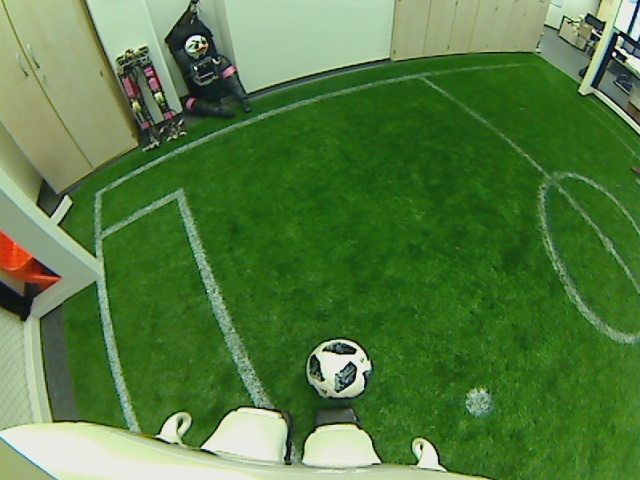ball: (305, 336, 373, 403)
